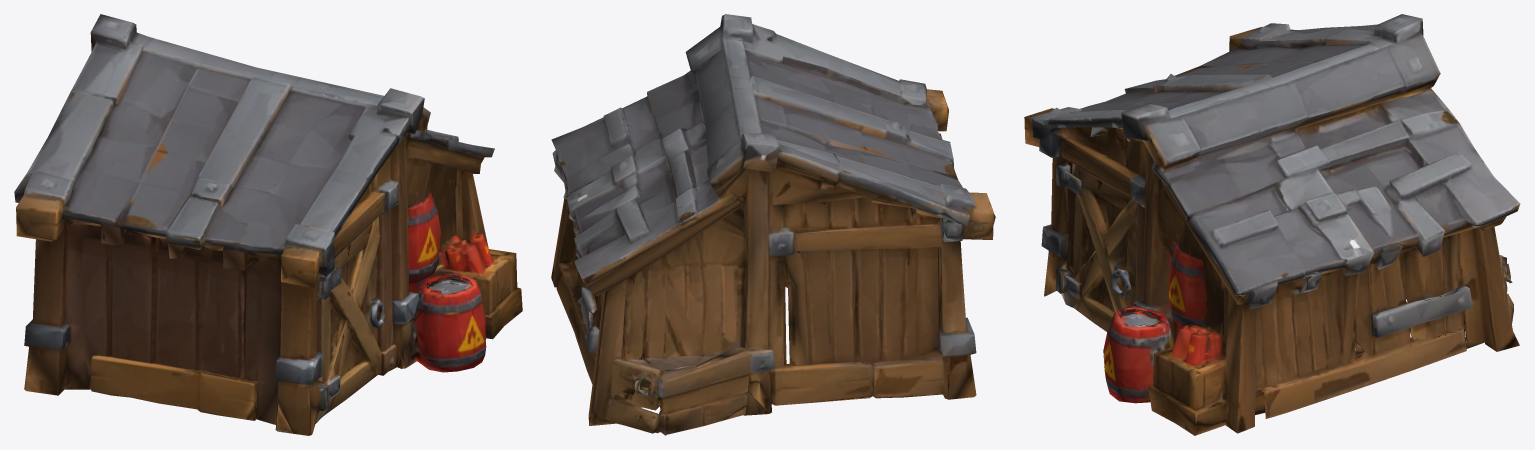
Rendered from bld_warehouse.glb.
3 renders of one model, left to right at view 1: azimuth 30°, elevation 25°; view 2: azimuth 150°, elevation 25°; view 3: azimuth 270°, elevation 25°, orthographic. The views are drawn at different scales.
Visible parts, largest first — view 1: BakeLow; view 2: BakeLow; view 3: BakeLow.
Part boxes in pixels (bbox=[...]): BakeLow: bbox=[14, 14, 522, 435]; BakeLow: bbox=[551, 14, 995, 435]; BakeLow: bbox=[1024, 14, 1520, 435].
Size of the model in its own units: 0.8881 by 0.5183 by 0.8383.
1 material, 1 textured.
